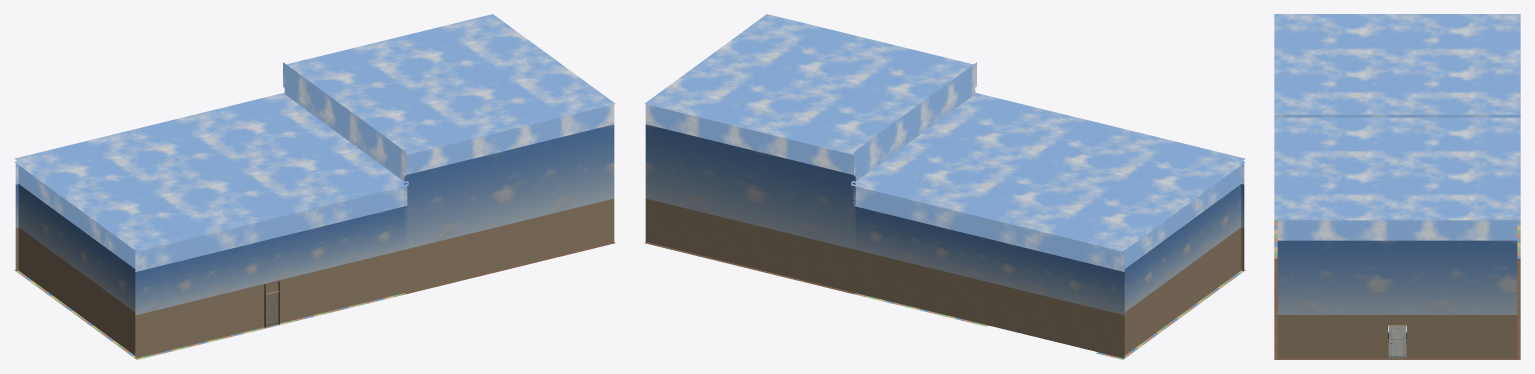
The picture shows the model from 3 angles, left to right: view 1: azimuth 30°, elevation 25°; view 2: azimuth 150°, elevation 25°; view 3: azimuth 270°, elevation 25°; orthographic projection.
Visible parts, largest first — view 1: Sky_Glow, Sky_Mural, Wall_Plaster, Floor_Rubber, Floor_Terrazzo; view 2: Sky_Glow, Sky_Mural, Wall_Plaster, Floor_Rubber, Floor_Terrazzo; view 3: Sky_Glow, Sky_Mural, Wall_Plaster, Floor_Terrazzo, DoorLeaf_sky_hall_04, Floor_Rubber.
Boxes of the visible parts, left/top/right/bottom form: Sky_Glow: left=14, top=14, right=615, bottom=271; Sky_Mural: left=15, top=124, right=614, bottom=315; Wall_Plaster: left=15, top=198, right=614, bottom=358; Floor_Rubber: left=14, top=269, right=405, bottom=359; Floor_Terrazzo: left=404, top=242, right=615, bottom=294; Sky_Glow: left=644, top=14, right=1245, bottom=271; Sky_Mural: left=645, top=124, right=1244, bottom=315; Wall_Plaster: left=645, top=198, right=1244, bottom=358; Floor_Rubber: left=854, top=269, right=1245, bottom=359; Floor_Terrazzo: left=644, top=242, right=855, bottom=294; Sky_Glow: left=1274, top=14, right=1520, bottom=240; Sky_Mural: left=1277, top=240, right=1517, bottom=314; Wall_Plaster: left=1277, top=315, right=1517, bottom=358; Floor_Terrazzo: left=1274, top=258, right=1520, bottom=359; DoorLeaf_sky_hall_04: left=1388, top=326, right=1406, bottom=358; Floor_Rubber: left=1274, top=220, right=1520, bottom=258.
Size of the model in its own units: 32.4 by 9.2 by 14.4.
Materials: 25 (17 with a texture image).
